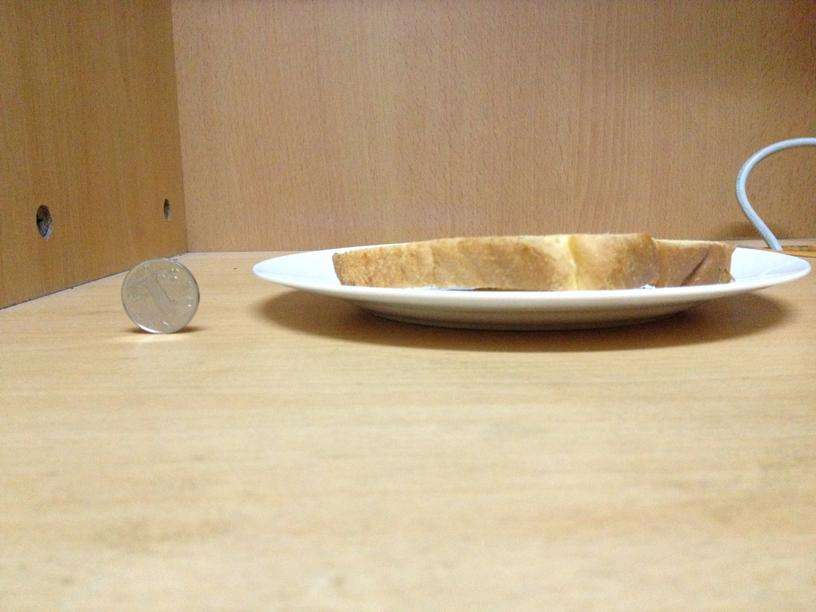bread: (330, 236, 734, 291)
coin: (117, 257, 198, 333)
